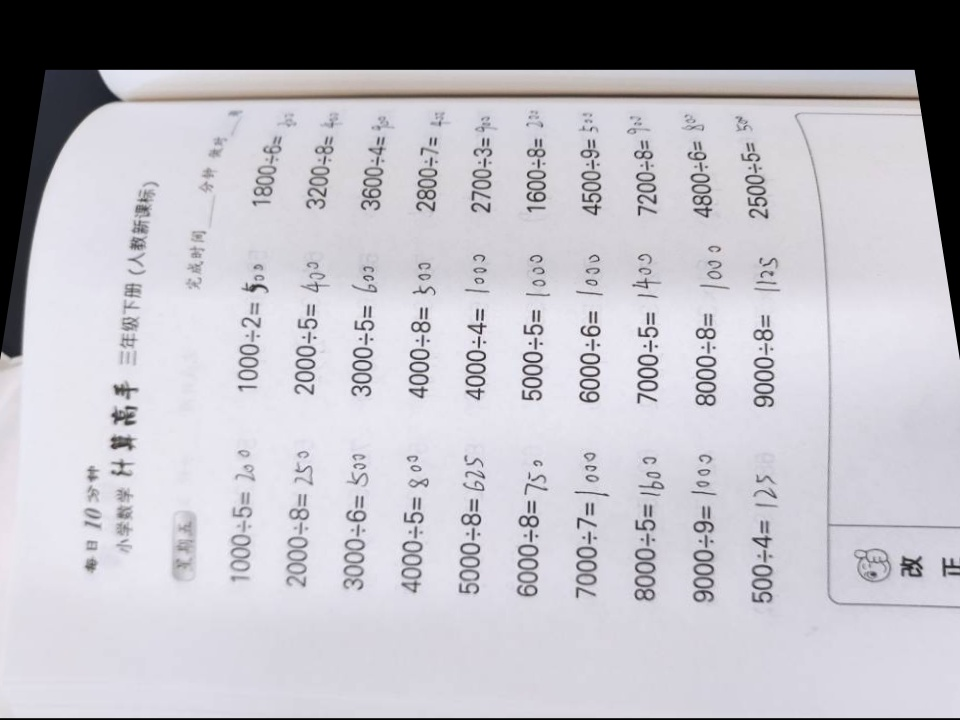equation: (740, 241, 796, 415), (685, 241, 740, 414), (740, 433, 787, 623), (210, 435, 266, 593), (277, 431, 323, 619), (679, 431, 725, 619), (626, 433, 671, 623), (333, 431, 378, 619), (566, 430, 611, 618), (512, 433, 556, 622), (391, 424, 435, 612), (449, 427, 492, 615), (247, 94, 302, 236), (227, 251, 271, 419), (342, 246, 384, 413), (293, 241, 335, 407), (625, 241, 667, 407), (569, 240, 611, 406), (515, 247, 556, 414), (403, 247, 444, 414), (458, 244, 498, 410), (733, 97, 775, 247), (677, 97, 718, 247), (302, 98, 342, 248), (569, 94, 609, 244), (356, 91, 396, 240), (626, 93, 666, 242), (517, 98, 556, 248), (415, 95, 453, 245), (465, 91, 503, 240)
